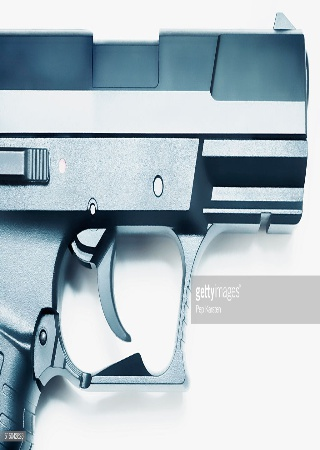handgun: (1, 11, 311, 449)
